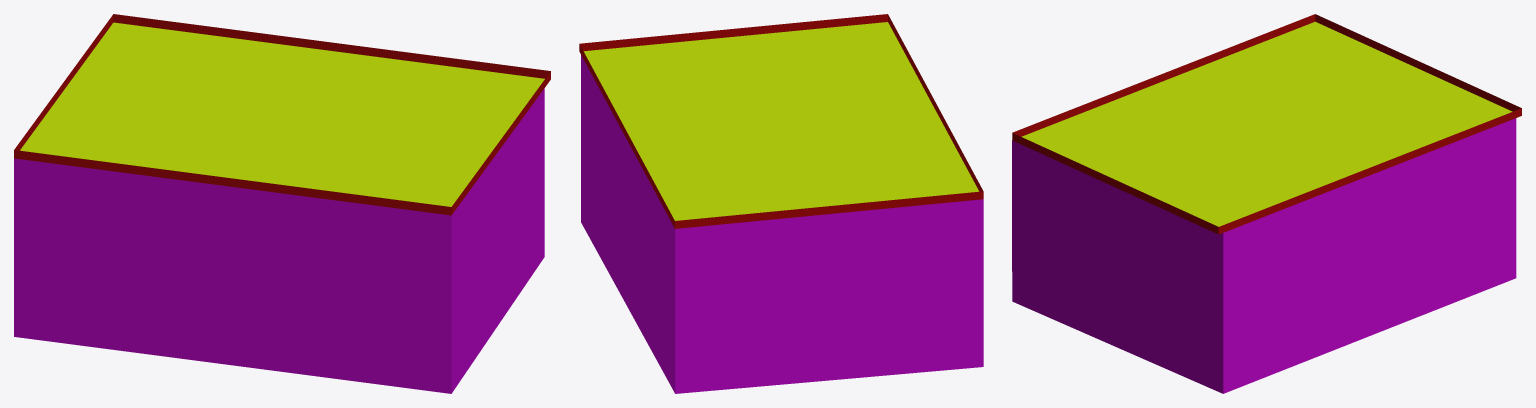
3 renders of one model, left to right at view 1: azimuth 30°, elevation 25°; view 2: azimuth 150°, elevation 25°; view 3: azimuth 270°, elevation 25°, orthographic. The views are drawn at different scales.
Visible parts, largest first — view 1: sc_25; view 2: sc_25; view 3: sc_25.
Part boxes in pixels (box(x1,y1,x2,y2)): sc_25: box(14, 14, 550, 393); sc_25: box(579, 14, 983, 393); sc_25: box(1012, 14, 1521, 393).
Bounding box in the file's own units: 20.88 × 7.71 × 21.12.
